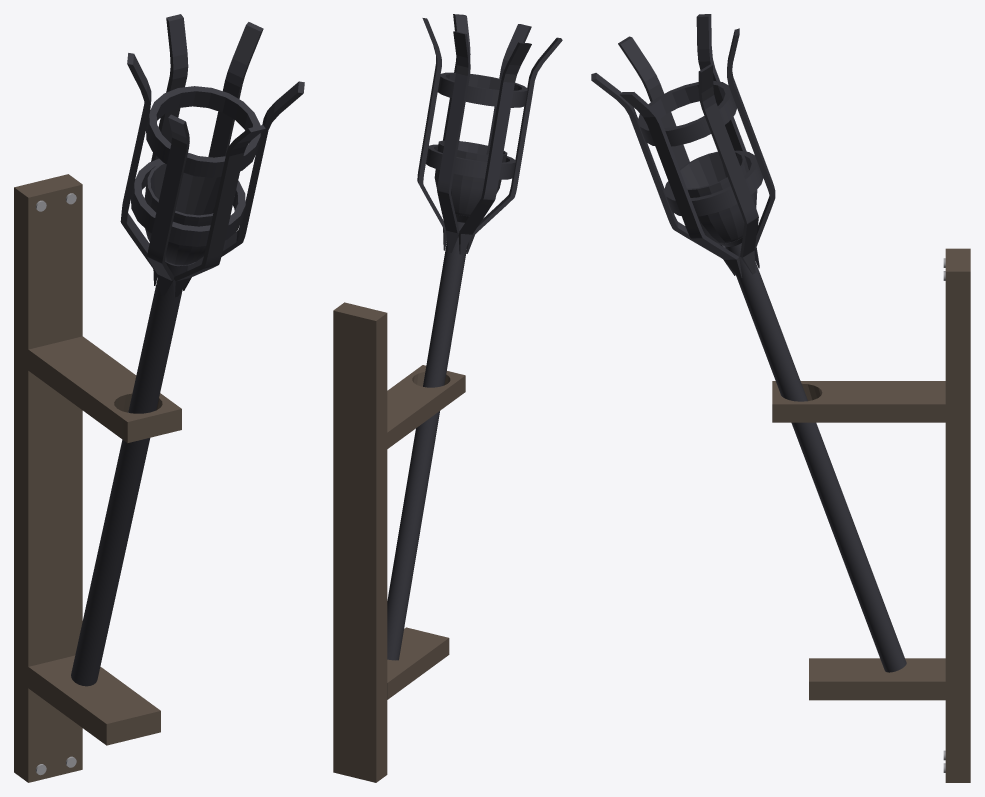
Rendered from torches.fbx.
3 views of the same model, side by side, from view 1: azimuth 30°, elevation 25°; view 2: azimuth 150°, elevation 25°; view 3: azimuth 270°, elevation 25° (orthographic). The views are drawn at different scales.
Parts seen in each view (by area): view 1: wallHandle, torch; view 2: wallHandle, torch; view 3: torch, wallHandle.
Boxes of the visible parts, x1,y1,x2,y2 form: wallHandle: (14,174,181,782); torch: (71,14,304,686); wallHandle: (333,302,465,782); torch: (387,14,562,660); torch: (591,14,906,672); wallHandle: (772,248,970,782).
Size of the model in its own units: 38.32 by 223 by 104.
